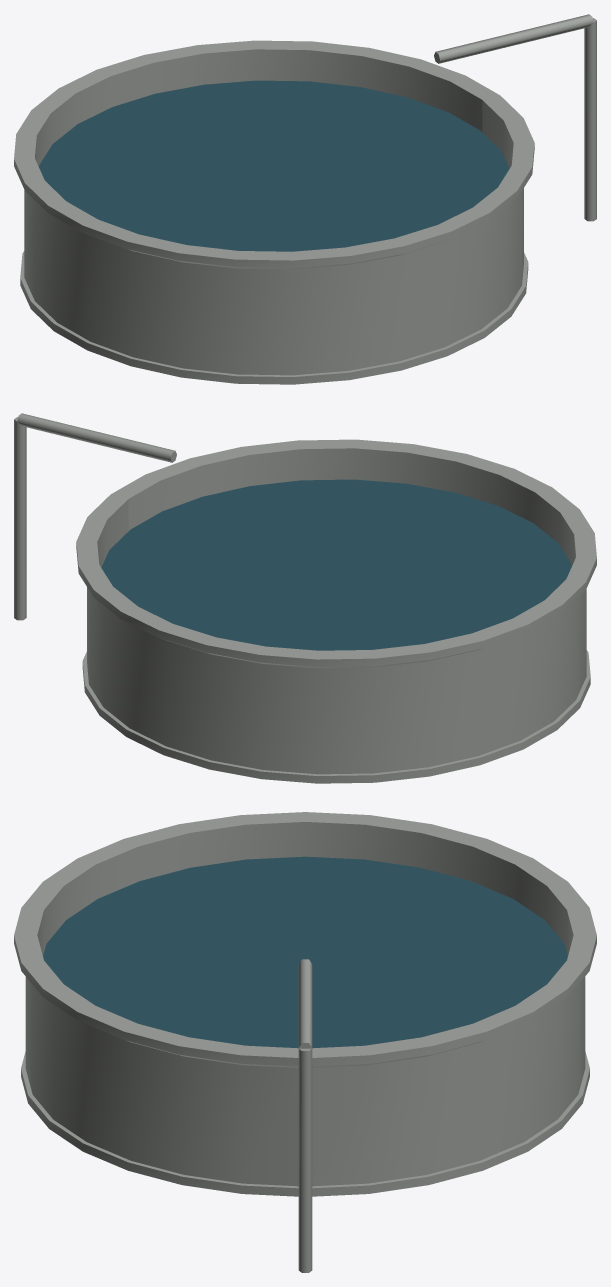
The model's file is toaster_stock_tank.glb.
The picture shows the model from 3 angles, top to bottom: view 1: azimuth 30°, elevation 25°; view 2: azimuth 150°, elevation 25°; view 3: azimuth 270°, elevation 25°; orthographic projection. The views are drawn at different scales.
Visible parts, largest first — view 1: toaster_stock_tank_wall, toaster_stock_tank_water, toaster_stock_tank_pipe; view 2: toaster_stock_tank_wall, toaster_stock_tank_water, toaster_stock_tank_pipe; view 3: toaster_stock_tank_wall, toaster_stock_tank_water, toaster_stock_tank_pipe.
Boxes of the visible parts, x1=… form: toaster_stock_tank_wall: x1=14, y1=40, x2=534, y2=384; toaster_stock_tank_water: x1=39, y1=80, x2=509, y2=251; toaster_stock_tank_pipe: x1=434, y1=14, x2=596, y2=221; toaster_stock_tank_wall: x1=76, y1=439, x2=596, y2=783; toaster_stock_tank_water: x1=101, y1=479, x2=571, y2=650; toaster_stock_tank_pipe: x1=14, y1=413, x2=176, y2=620; toaster_stock_tank_wall: x1=14, y1=812, x2=596, y2=1196; toaster_stock_tank_water: x1=43, y1=856, x2=567, y2=1048; toaster_stock_tank_pipe: x1=298, y1=959, x2=312, y2=1272.
Bounding box in the file's own units: 3.03 × 1.08 × 2.5.
